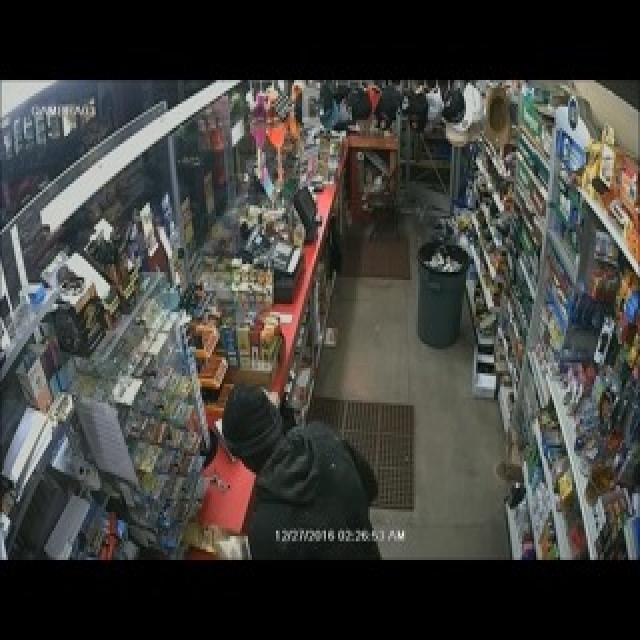thief: (205, 376, 389, 554)
